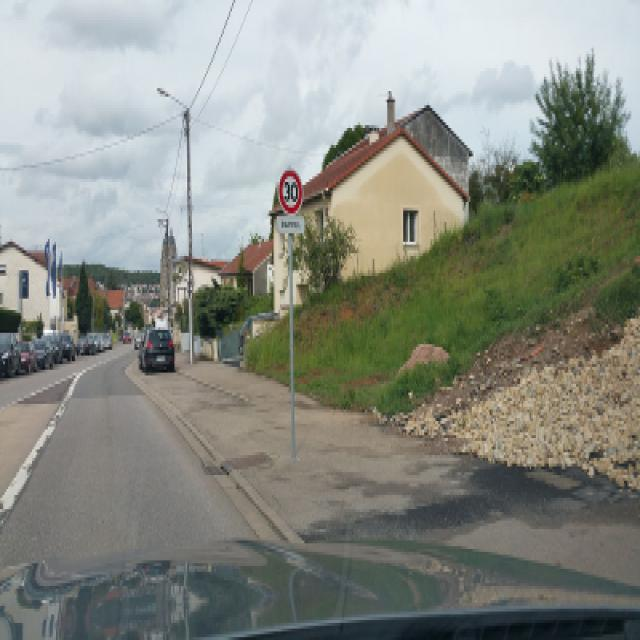speed_30: (277, 164, 304, 217)
